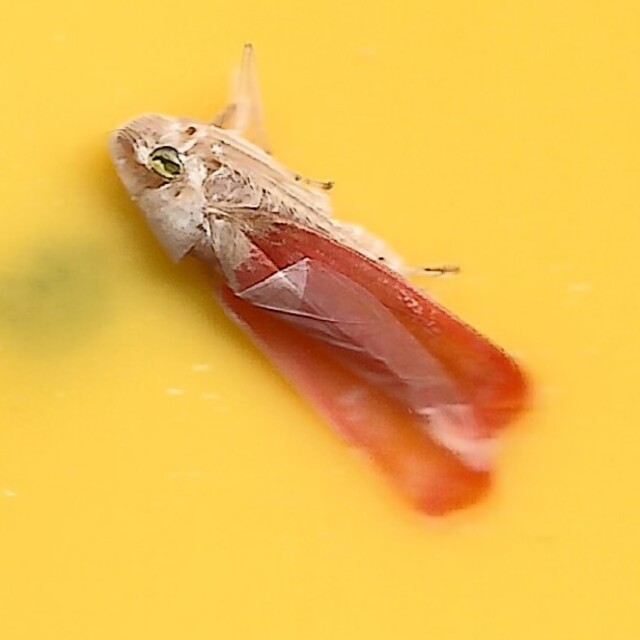Hemiptera: (104, 111, 536, 529)
